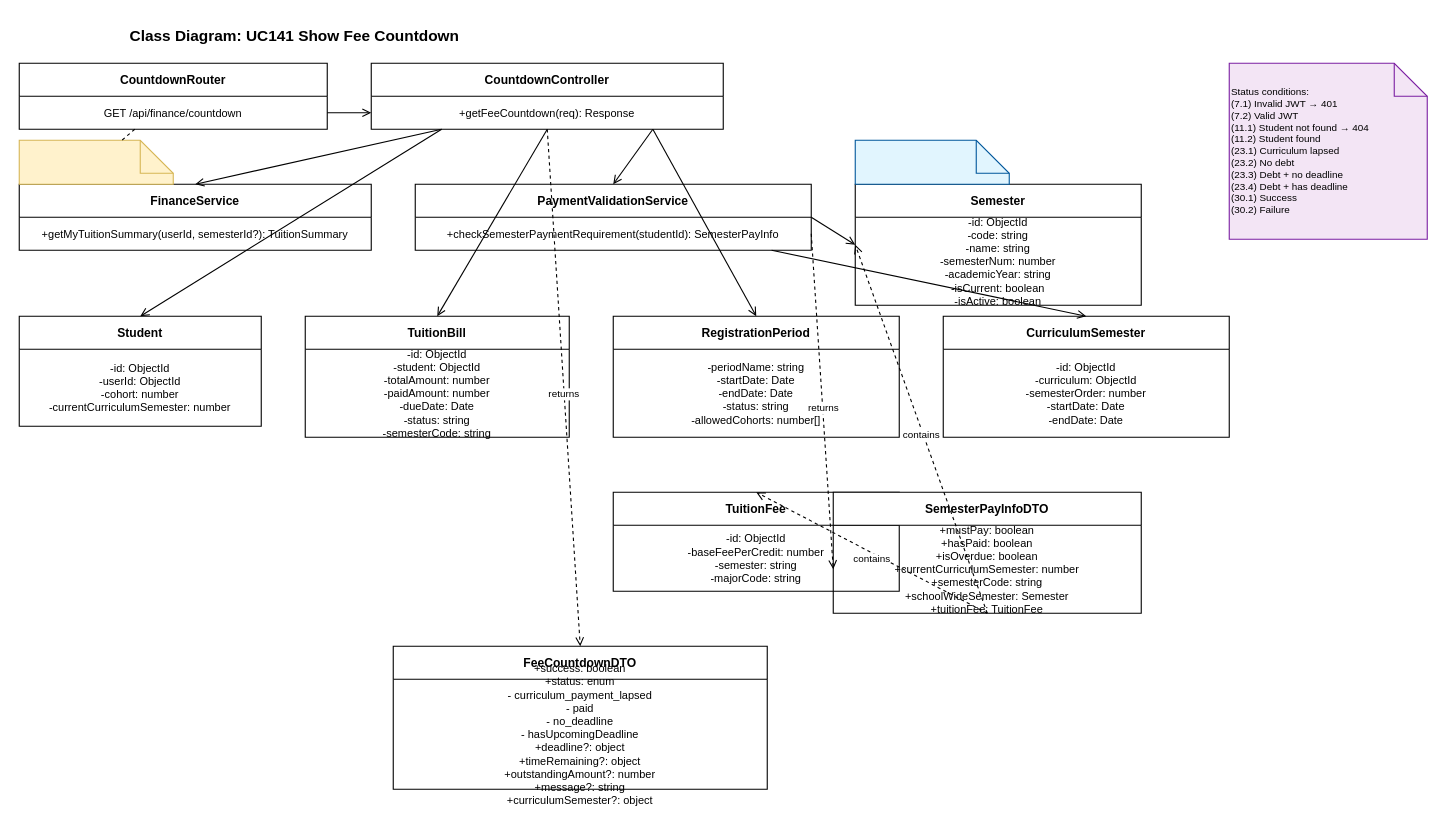
Image size: 1447x825. Some labels were removed from this diagram. Each missing label, with the centre of its shape:
"AuthMiddleware (student)" belongs at (95,161).
"Semester (isCurrent=true) la kỳ hệ thống hiện tại" belongs at (931,161).
